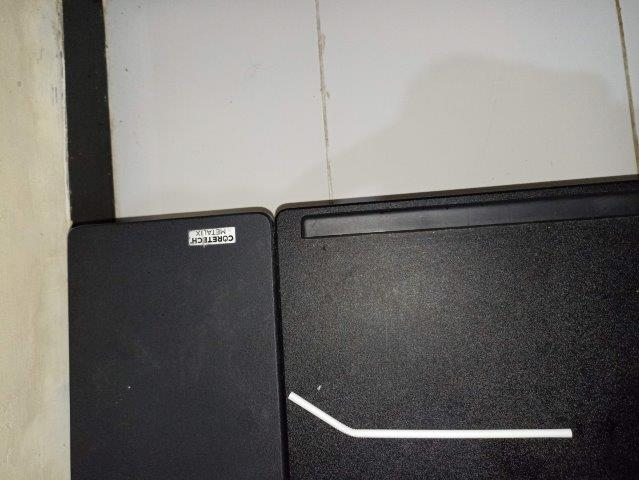sedotan: (288, 391, 572, 438)
